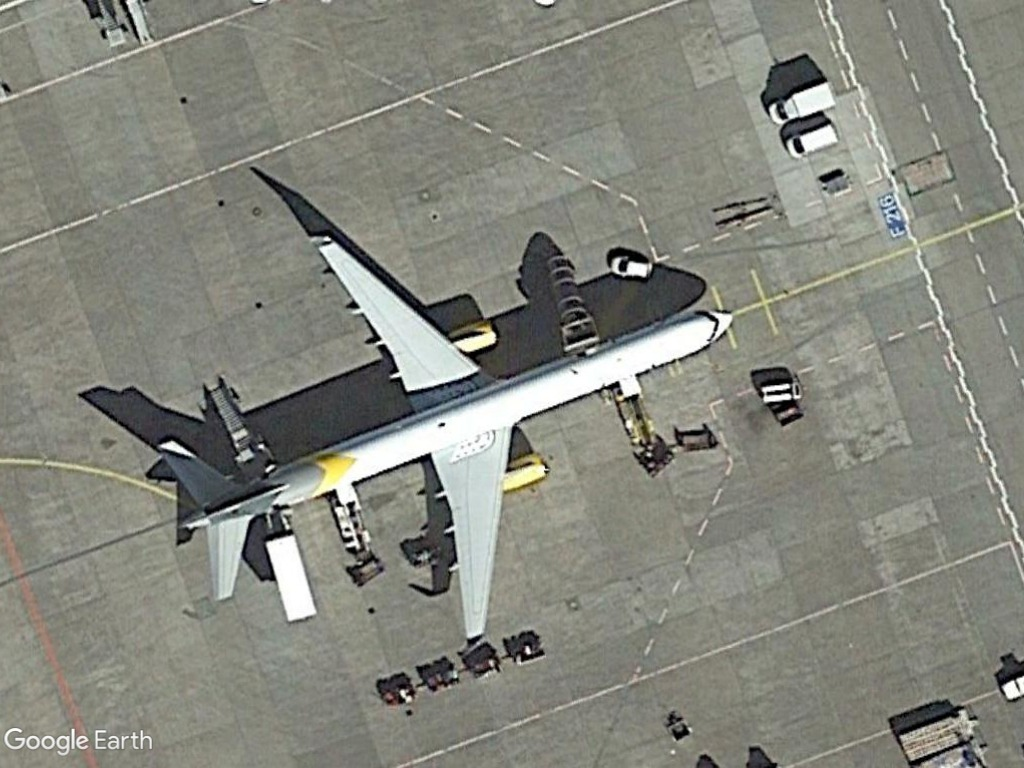airliner: (120, 225, 749, 639)
truck: (767, 77, 842, 125)
van: (777, 118, 848, 162)
